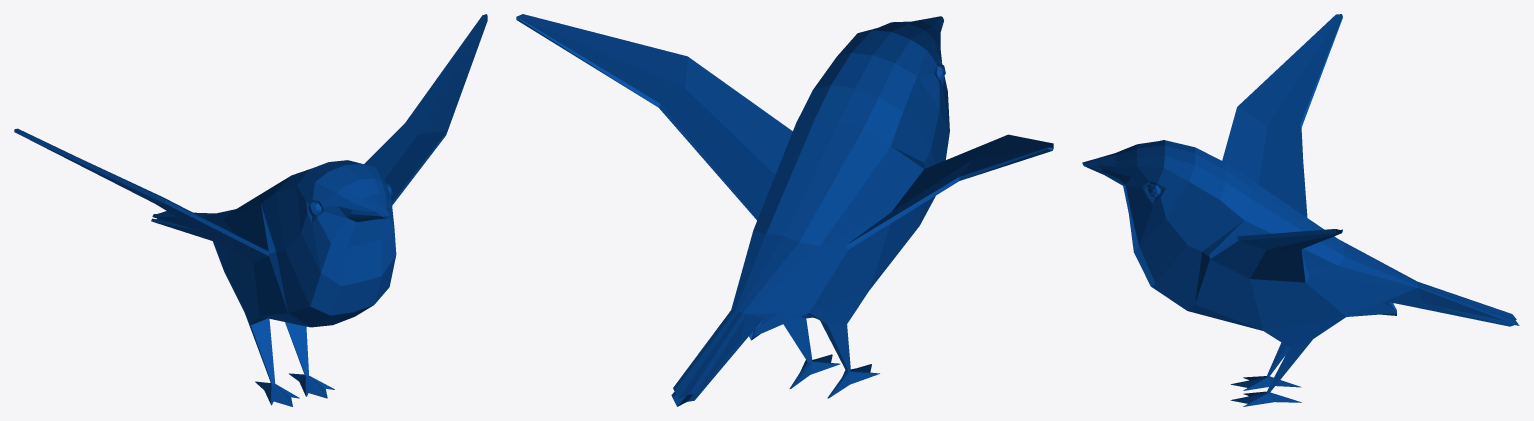
The model's file is bird.obj.
3 views of the same model, side by side, from view 1: azimuth 30°, elevation 25°; view 2: azimuth 150°, elevation 25°; view 3: azimuth 270°, elevation 25° (orthographic). The views are drawn at different scales.
Visible parts, largest first — view 1: bird; view 2: bird; view 3: bird.
Part boxes in pixels (left/top/right/bottom): bird: left=14, top=14, right=487, bottom=406; bird: left=516, top=14, right=1053, bottom=406; bird: left=1082, top=14, right=1519, bottom=406.
Size of the model in its own units: 1.18 by 0.6937 by 1.01.
Materials: 1 (1 with a texture image).
